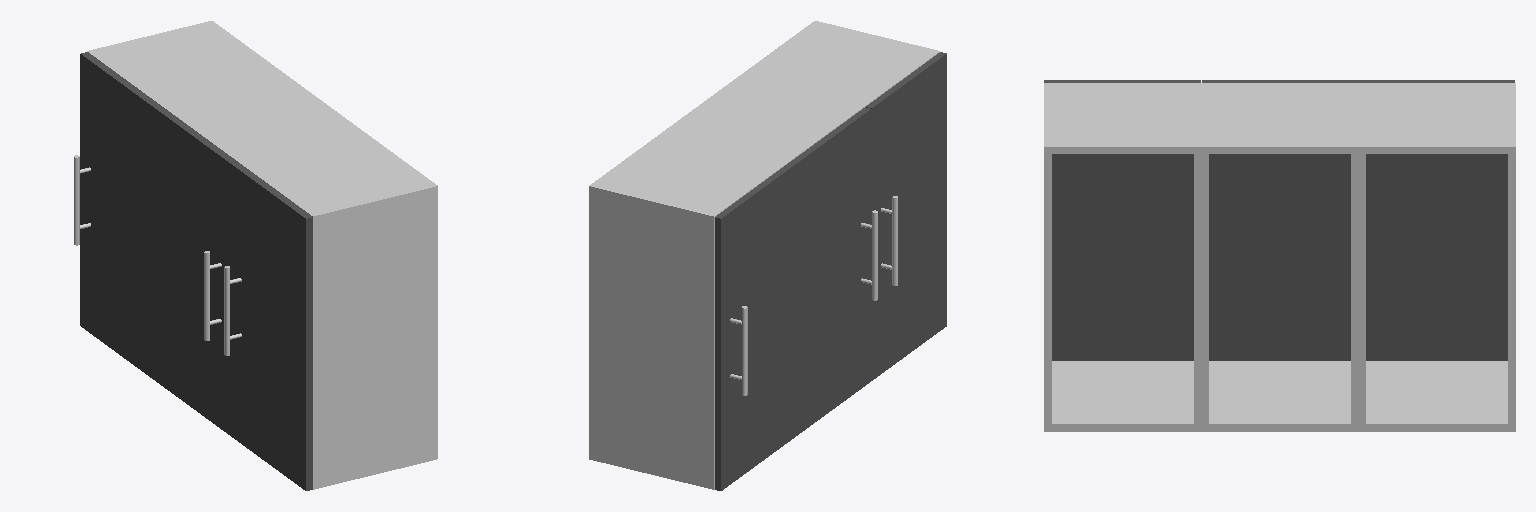
The robot description file, URDF, robot "kitchen_part_right":
<?xml version="1.0" ?>
<robot name="kitchen_part_right">
	<material name="White">
    <color rgba="0.85 0.85 0.85 1.0"/>
  </material>
  <material name="Grey">
    <color rgba="0.4 0.4 0.4 1.0"/>
  </material>
  <material name="Red">
    <color rgba="1.0 0 0 1.0"/>
  </material>

	<link name="base"/>
	<joint name="joint_1" type="fixed">
		<origin rpy="0 0 -3.14159265359" xyz="-0.32 0 0"/>
		<child link="sektion"/>
		<parent link="base"/>
	</joint>

	<link name="sektion">
    <inertial>
      <origin rpy="0 0 0" xyz="0 0 0"/>
      <mass value="10.0"/>
      <inertia ixx="0.0001" ixy="0" ixz="0" iyy="0.0001" iyz="0" izz="0.0001"/>
    </inertial>
    <visual name="sektion_visual">
      <origin rpy="0  0  0" xyz="0  0  0"/>
      <geometry>
        <mesh filename="textured_objs/sektion_top_three.obj" scale="1.0 1.0 1.0"/>
      </geometry>
      <material name="White"/>
    </visual>
    <collision>
      <geometry>
        <mesh filename="textured_objs/sektion_top_three.obj" scale="1.0 1.0 1.0"/>
      </geometry>
    </collision>
  </link>

	<joint name="baker_joint_fixed" type="fixed">
    <parent link="sektion"/>
    <child link="baker_anchor_link"/>
    <!-- <origin rpy="0 0 3.14159265359" xyz="0.3 -0.762 -0.3"/> -->
    <origin rpy="0 0 3.14159265359" xyz="0 -0.762 0"/>
  </joint>
  <link name="baker_anchor_link"/>
  <joint name="baker_joint" type="revolute">
    <parent link="baker_anchor_link"/>
    <child link="baker_link_tmp"/>
    <origin rpy="0 0 0" xyz="0 0 0"/>
    <axis xyz="0 0 1"/>
    <limit effort="1000.0" lower="0" upper="1.57" velocity="0.1"/>
  </joint>
  <link name="baker_link_tmp"/>
  <joint name="baker_joint_fixed_2" type="fixed">
    <parent link="baker_link_tmp"/>
    <child link="baker_link"/>
    <origin rpy="0 0 0" xyz="-0.01 0.19 0.38"/>
  </joint>
  <link name="baker_link">
    <inertial>
      <origin rpy="0 0 0" xyz="0 0 0"/>
      <mass value="1.0"/>
      <inertia ixx="0.0001" ixy="0" ixz="0" iyy="0.0001" iyz="0" izz="0.0001"/>
    </inertial>
    <visual name="baker_visual">
      <origin rpy="0 0 0" xyz="0 0 0"/>
      <geometry>
        <mesh filename="textured_objs/front_vertical_right.obj" scale="1.0 1.0 1.0"/>
      </geometry>
      <material name="Grey"/>
    </visual>
    <collision>
      <geometry>
        <mesh filename="textured_objs/front_vertical_right.obj" scale="1.0 1.0 1.0"/>
      </geometry>
    </collision>
  </link>
  <joint name="baker_handle_transform" type="fixed">
    <parent link="baker_link_tmp"/>
    <child link="baker_handle"/>
    <origin rpy="0 0 0" xyz="-0.05905 0.33 0.38"/>
    <axis xyz="0 0 1"/>
  </joint>
  <link name="baker_handle">
    <inertial>
      <origin rpy="0 0 0" xyz="0 0 0"/>
      <mass value="1.0"/>
      <inertia ixx="0.0001" ixy="0" ixz="0" iyy="0.0001" iyz="0" izz="0.0001"/>
    </inertial>
    <visual name="baker_visual">
      <origin rpy="0  0  0" xyz="0  0  0"/>
      <geometry>
        <mesh filename="textured_objs/handle_new.obj" scale="1.0 1.0 1.0"/>
      </geometry>
      <material name="White"/>
    </visual>
    <collision>
      <geometry>
        <mesh filename="textured_objs/handle_new.obj" scale="1.0 1.0 1.0"/>
      </geometry>
    </collision>
  </link>

  <joint name="chewie_door_right_joint_fixed" type="fixed">
    <parent link="sektion"/>
    <child link="chewie_door_right_anchor_link"/>
    <!-- <origin rpy="0 0 3.14159265359" xyz="0.3 0 -0.3"/> -->
    <origin rpy="0 0 3.14159265359" xyz="0 0 0"/>
  </joint>
  <link name="chewie_door_right_anchor_link"/>

  <joint name="chewie_door_right_joint" type="revolute">
    <parent link="chewie_door_right_anchor_link"/>
    <child link="chewie_door_right_link_tmp"/>
    <origin rpy="0 0 0" xyz="0 0 0"/>
    <axis xyz="0 0 1"/>
    <limit effort="1000.0" lower="0" upper="1.57" velocity="0.1"/>
  </joint>
  <link name="chewie_door_right_link_tmp"/>

  <joint name="chewie_door_right_joint_fixed_2" type="fixed">
    <parent link="chewie_door_right_link_tmp"/>
    <child link="chewie_door_right_link"/>
    <origin rpy="0 0 0" xyz="-0.01 0.19 0.38"/>
  </joint>
  <link name="chewie_door_right_link">
    <inertial>
      <origin rpy="0 0 0" xyz="0 0 0"/>
      <mass value="1.0"/>
      <inertia ixx="0.0001" ixy="0" ixz="0" iyy="0.0001" iyz="0" izz="0.0001"/>
    </inertial>
    <visual name="chewie_door_right_visual">
      <origin rpy="0 0 0" xyz="0 0 0"/>
      <geometry>
        <mesh filename="textured_objs/front_vertical_right.obj" scale="1.0 1.0 1.0"/>
      </geometry>
      <material name="Grey"/>
    </visual>
    <collision>
      <geometry>
        <mesh filename="textured_objs/front_vertical_right.obj" scale="1.0 1.0 1.0"/>
      </geometry>
    </collision>
  </link>

  <joint name="chewie_door_right_handle_transform" type="fixed">
    <parent link="chewie_door_right_link_tmp"/>
    <child link="chewie_door_right_handle"/>
    <!-- <origin rpy="0 0 0" xyz="-0.05905 0.33 0.13"/> -->
    <origin rpy="0 0 0" xyz="-0.05905 0.33 0.38"/>
    <axis xyz="0 0 1"/>
  </joint>
  <link name="chewie_door_right_handle">
    <inertial>
      <origin rpy="0 0 0" xyz="0 0 0"/>
      <mass value="1.0"/>
      <inertia ixx="0.0001" ixy="0" ixz="0" iyy="0.0001" iyz="0" izz="0.0001"/>
    </inertial>
    <visual name="chewie_door_right_handle_visual">
      <origin rpy="0  0  0" xyz="0  0  0"/>
      <geometry>
        <mesh filename="textured_objs/handle_new.obj" scale="1.0 1.0 1.0"/>
      </geometry>
      <material name="White"/>
    </visual>
    <collision>
      <geometry>
        <mesh filename="textured_objs/handle_new.obj" scale="1.0 1.0 1.0"/>
      </geometry>
    </collision>
  </link>


  <joint name="chewie_door_left_joint_fixed" type="fixed">
    <parent link="sektion"/>
    <child link="chewie_door_left_anchor_link"/>
    <!-- <origin rpy="0 0 3.14159265359" xyz="0.3 -0.762 -0.3"/> -->
    <origin rpy="0 0 3.14159265359" xyz="0 -0.762 0"/>
  </joint>
  <link name="chewie_door_left_anchor_link"/>
  <joint name="chewie_door_left_joint" type="revolute">
    <parent link="chewie_door_left_anchor_link"/>
    <child link="chewie_door_left_link_tmp"/>
    <origin rpy="0 0 0" xyz="0 0 0"/>
    <axis xyz="0 0 1"/>
    <limit effort="1000.0" lower="-1.57" upper="0" velocity="0.1"/>
  </joint>
  <link name="chewie_door_left_link_tmp"/>
  <joint name="chewie_door_left_joint_fixed_2" type="fixed">
    <parent link="chewie_door_left_link_tmp"/>
    <child link="chewie_door_left_link"/>
    <origin rpy="0 0 0" xyz="-0.01 -0.19 0.38"/>
  </joint>
  <link name="chewie_door_left_link">
    <inertial>
      <origin rpy="0 0 0" xyz="0 0 0"/>
      <mass value="1.0"/>
      <inertia ixx="0.0001" ixy="0" ixz="0" iyy="0.0001" iyz="0" izz="0.0001"/>
    </inertial>
    <visual name="chewie_door_left_visual">
      <origin rpy="0 0 0" xyz="0 0 0"/>
      <geometry>
        <mesh filename="textured_objs/front_vertical_left.obj" scale="1.0 1.0 1.0"/>
      </geometry>
      <material name="Grey"/>
    </visual>
    <collision>
      <geometry>
        <mesh filename="textured_objs/front_vertical_left.obj" scale="1.0 1.0 1.0"/>
      </geometry>
    </collision>
  </link>
  <joint name="chewie_door_left_handle_transform" type="fixed">
    <parent link="chewie_door_left_link_tmp"/>
    <child link="chewie_door_left_handle"/>
    <!-- <origin rpy="0 0 0" xyz="-0.05905 -0.33 0.13"/> -->
    <origin rpy="0 0 0" xyz="-0.05905 -0.33 0.38"/>
    <axis xyz="0 0 1"/>
  </joint>
  <link name="chewie_door_left_handle">
    <inertial>
      <origin rpy="0 0 0" xyz="0 0 0"/>
      <mass value="1.0"/>
      <inertia ixx="0.0001" ixy="0" ixz="0" iyy="0.0001" iyz="0" izz="0.0001"/>
    </inertial>
    <visual name="chewie_door_left_handle_visual">
      <origin rpy="0  0  0" xyz="0  0  0"/>
      <geometry>
        <mesh filename="textured_objs/handle_new.obj" scale="1.0 1.0 1.0"/>
      </geometry>
      <material name="White"/>
    </visual>
    <collision>
      <geometry>
        <mesh filename="textured_objs/handle_new.obj" scale="1.0 1.0 1.0"/>
      </geometry>
    </collision>
  </link>



</robot>

--- Render facts (derived) ---
The picture shows the robot from 3 angles, left to right: view 1: azimuth 30°, elevation 25°; view 2: azimuth 150°, elevation 25°; view 3: azimuth 270°, elevation 25°; orthographic projection.
Robot: kitchen_part_right — 14 links, 13 joints (3 revolute, 10 fixed); root link base; default pose: every joint at zero.
Links seen in each view (by area): view 1: sektion, chewie_door_right_link, baker_link, chewie_door_left_link, chewie_door_right_handle, chewie_door_left_handle, baker_handle; view 2: sektion, baker_link, chewie_door_left_link, chewie_door_right_link, baker_handle, chewie_door_right_handle, chewie_door_left_handle; view 3: sektion, chewie_door_right_link, chewie_door_left_link, baker_link.
Link boxes in pixels (x1=…): sektion: x1=87, y1=21, x2=437, y2=489; chewie_door_right_link: x1=231, y1=162, x2=312, y2=490; baker_link: x1=80, y1=52, x2=160, y2=379; chewie_door_left_link: x1=155, y1=107, x2=236, y2=435; chewie_door_right_handle: x1=224, y1=266, x2=241, y2=355; chewie_door_left_handle: x1=204, y1=251, x2=221, y2=340; baker_handle: x1=74, y1=155, x2=90, y2=245; sektion: x1=589, y1=21, x2=939, y2=489; baker_link: x1=715, y1=162, x2=795, y2=490; chewie_door_left_link: x1=791, y1=107, x2=871, y2=435; chewie_door_right_link: x1=866, y1=52, x2=946, y2=380; baker_handle: x1=730, y1=306, x2=747, y2=395; chewie_door_right_handle: x1=881, y1=196, x2=897, y2=285; chewie_door_left_handle: x1=861, y1=210, x2=877, y2=300; sektion: x1=1044, y1=83, x2=1515, y2=431; chewie_door_right_link: x1=1044, y1=80, x2=1200, y2=360; chewie_door_left_link: x1=1202, y1=80, x2=1358, y2=360; baker_link: x1=1359, y1=80, x2=1514, y2=360.
Bounding box of the posed robot: 0.4326 × 1.14 × 0.762 m (x, y, z).
7 mesh visuals loaded from 4 distinct referenced files (4 OBJ).
